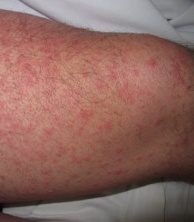SJS-TEN: (0, 3, 194, 208)
